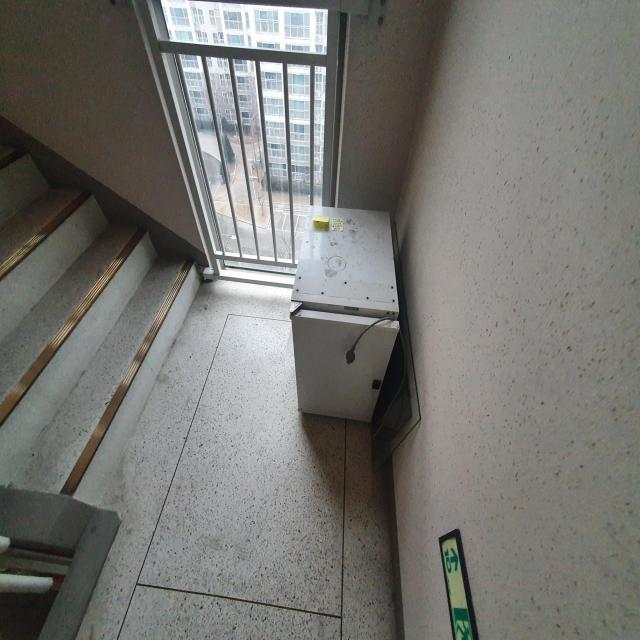refrigerator: (289, 204, 402, 422)
